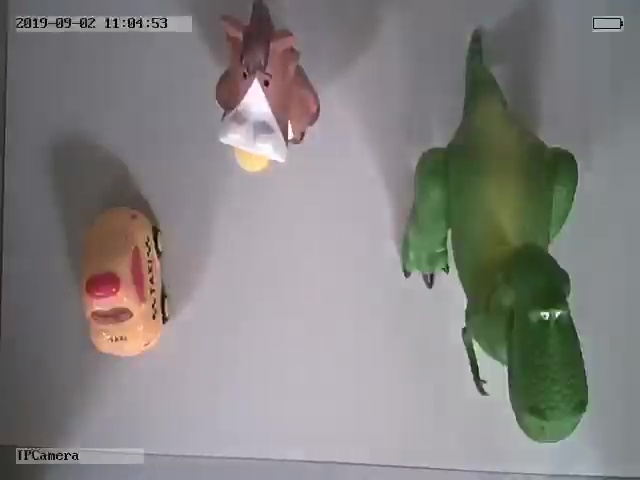car: (81, 204, 173, 358)
horse: (213, 5, 322, 172)
rex: (399, 27, 589, 444)
